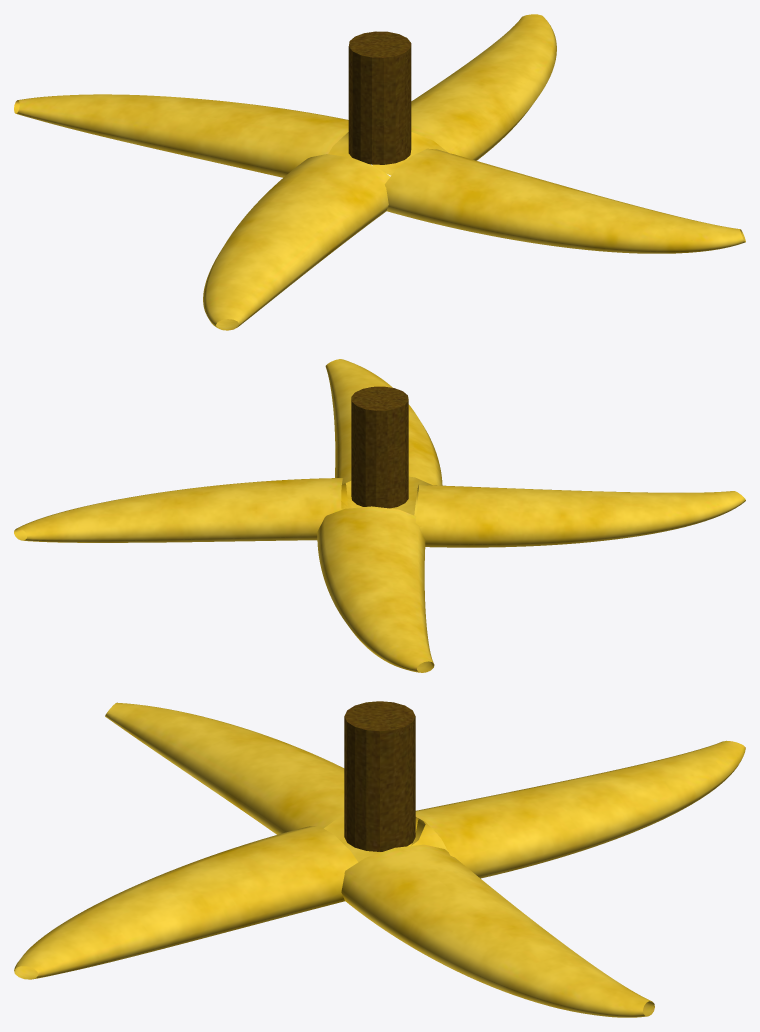
The model's file is peel.glb.
3 renders of one model, top to bottom at view 1: azimuth 30°, elevation 25°; view 2: azimuth 150°, elevation 25°; view 3: azimuth 270°, elevation 25°, orthographic. The views are drawn at different scales.
Visible parts, largest first — view 1: peel; view 2: peel; view 3: peel.
Boxes of the visible parts, x1,y1,x2,y2 form: peel: [14, 14, 745, 330]; peel: [14, 359, 745, 672]; peel: [14, 701, 745, 1017].
Size of the model in its own units: 1.65 by 0.4174 by 1.65.
1 material, 1 textured.
